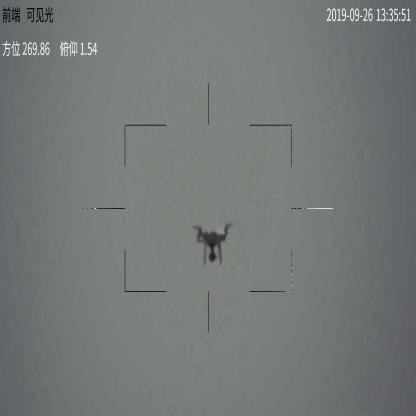uav: (193, 224, 237, 266)
